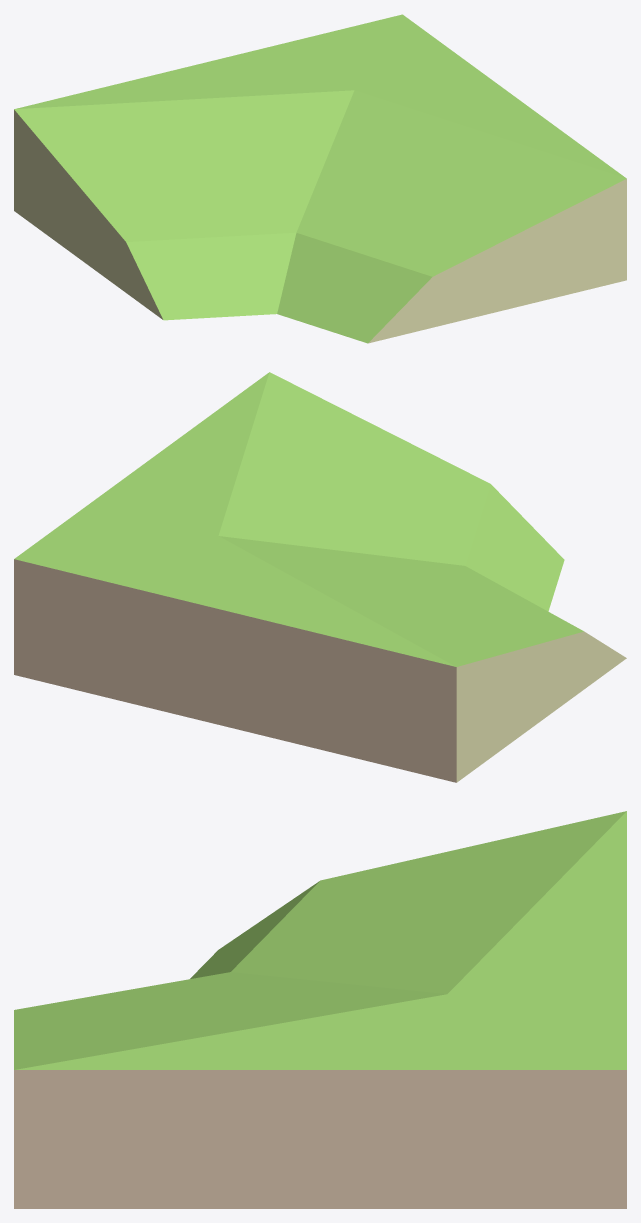
File: Grass_Carpet_Curve_Inner_1x1.fbx
3 renders of one model, top to bottom at view 1: azimuth 30°, elevation 25°; view 2: azimuth 150°, elevation 25°; view 3: azimuth 270°, elevation 25°, orthographic. The views are drawn at different scales.
Parts seen in each view (by area): view 1: Grass_Carpet_Curve_Inner_1x1; view 2: Grass_Carpet_Curve_Inner_1x1; view 3: Grass_Carpet_Curve_Inner_1x1.
Part boxes in pixels (box(x1,y1,x2,y2)): Grass_Carpet_Curve_Inner_1x1: box(14, 14, 626, 343); Grass_Carpet_Curve_Inner_1x1: box(14, 372, 626, 782); Grass_Carpet_Curve_Inner_1x1: box(14, 811, 626, 1208).
Bounding box in the file's own units: 100 × 25 × 100.
